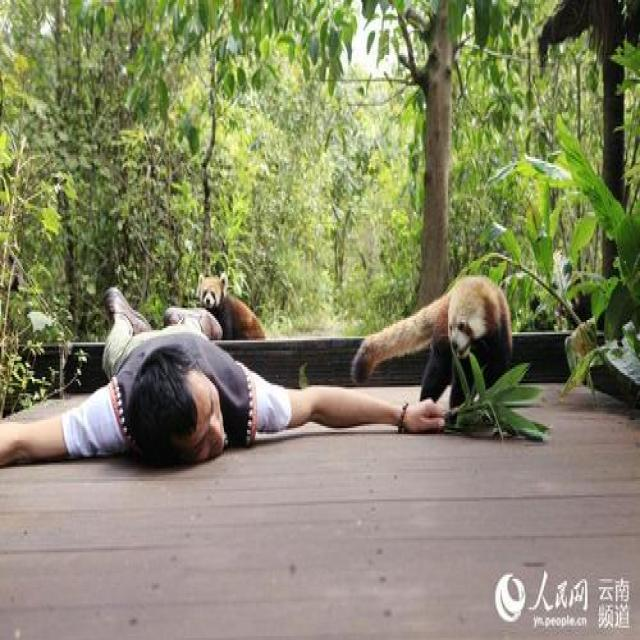fall: (51, 297, 342, 468)
